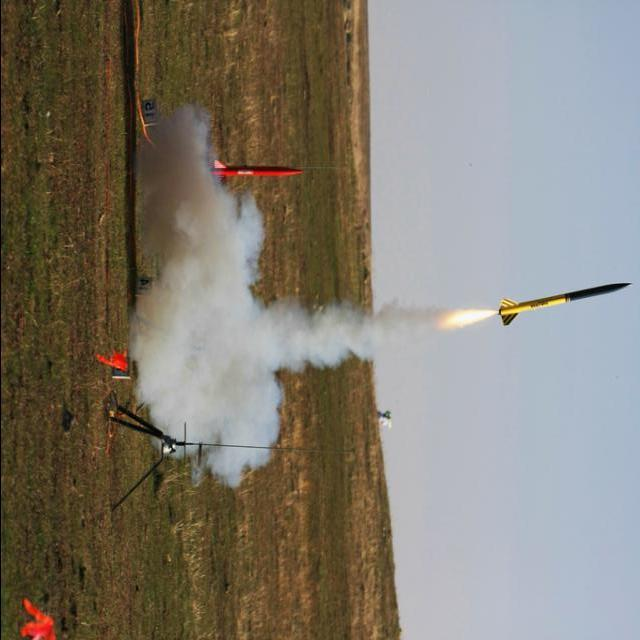Missile: (486, 276, 638, 332), (207, 160, 304, 186)
